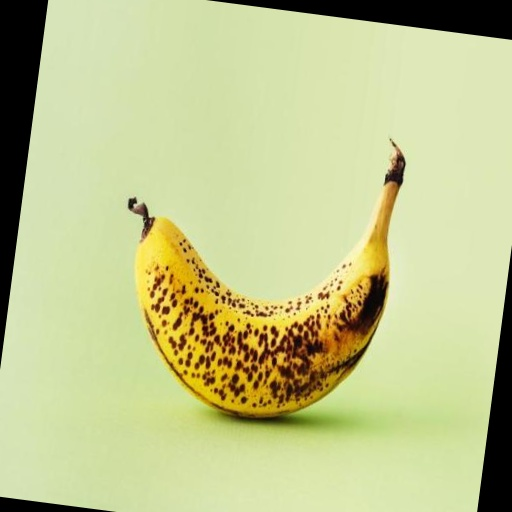fruit: (129, 143, 404, 417)
